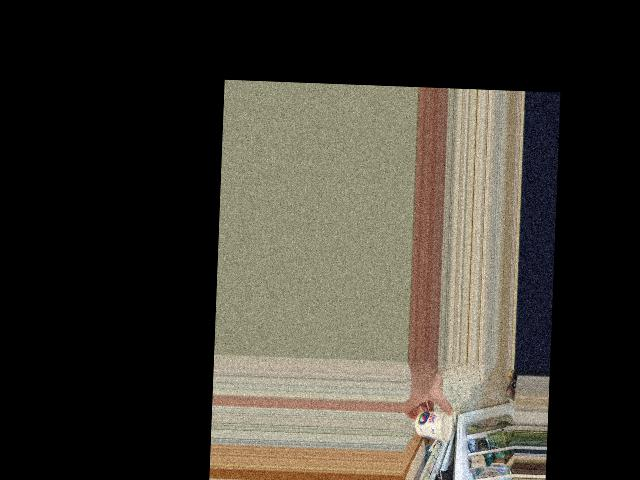cotage: (413, 404, 456, 445)
